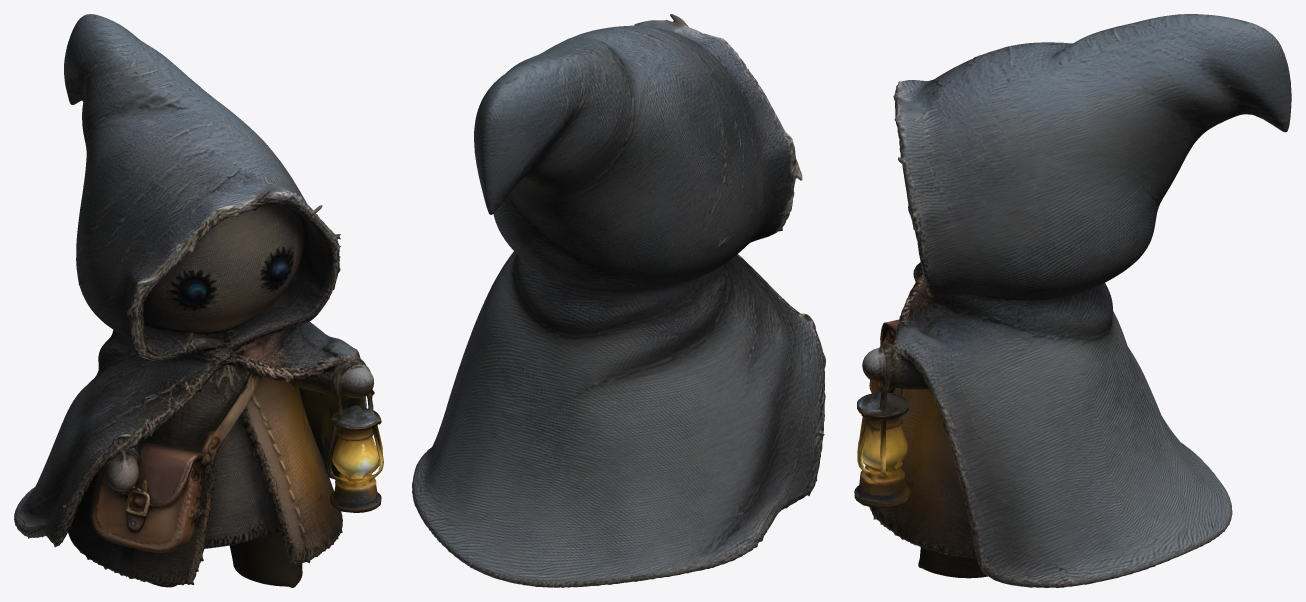
The model's file is burlap-doll.glb.
3 views of the same model, side by side, from view 1: azimuth 30°, elevation 25°; view 2: azimuth 150°, elevation 25°; view 3: azimuth 270°, elevation 25° (orthographic). The views are drawn at different scales.
Parts seen in each view (by area): view 1: node_0; view 2: node_0; view 3: node_0.
Part boxes in pixels (x1,y1,x2,y2): node_0: (14, 14, 383, 587); node_0: (412, 14, 825, 587); node_0: (854, 14, 1291, 587).
Size of the model in its own units: 0.7197 by 1.03 by 0.7796.
1 material, 1 textured.
